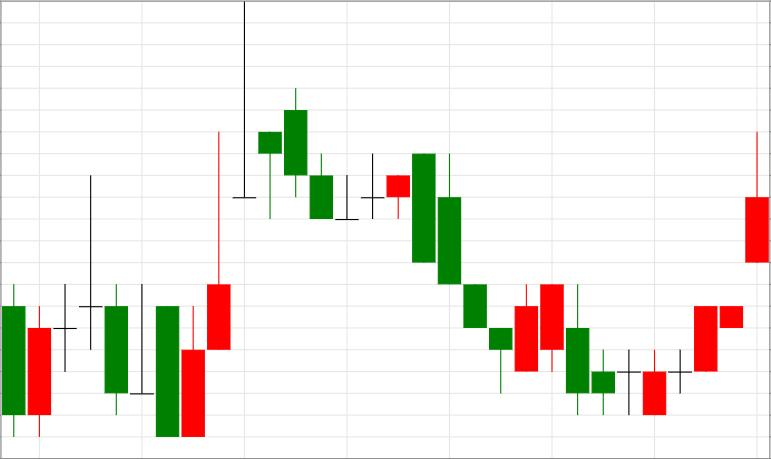hammer_rise: (412, 153, 512, 394)
hanging_man_fall: (181, 2, 281, 437)
